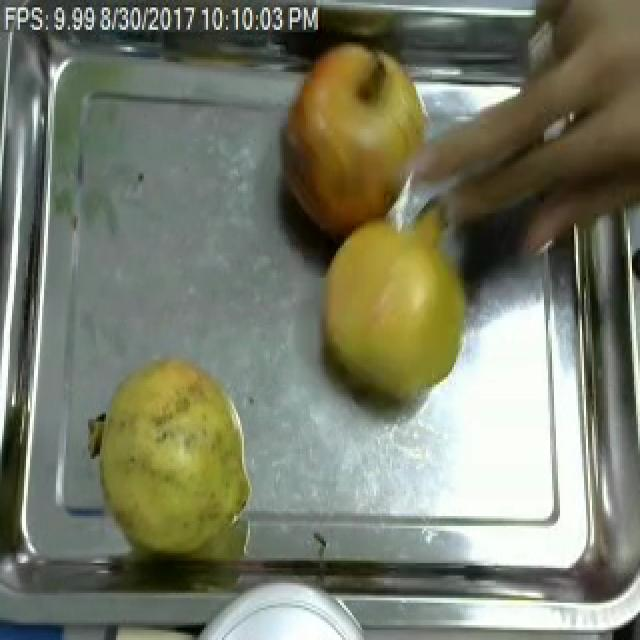fruit: (72, 340, 264, 563), (310, 201, 480, 422), (274, 34, 436, 246)
